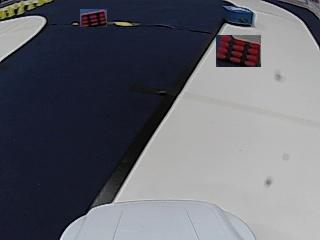prop: (224, 5, 253, 27)
